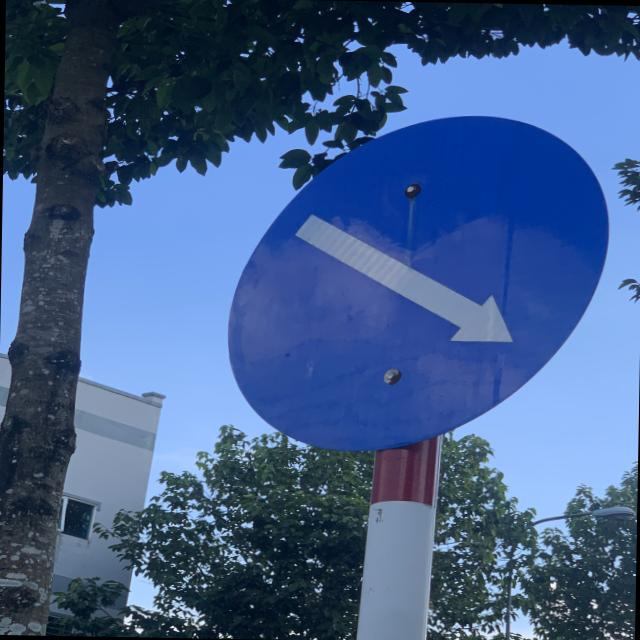Chi_Huong_Di_Phai: (224, 107, 614, 453)
